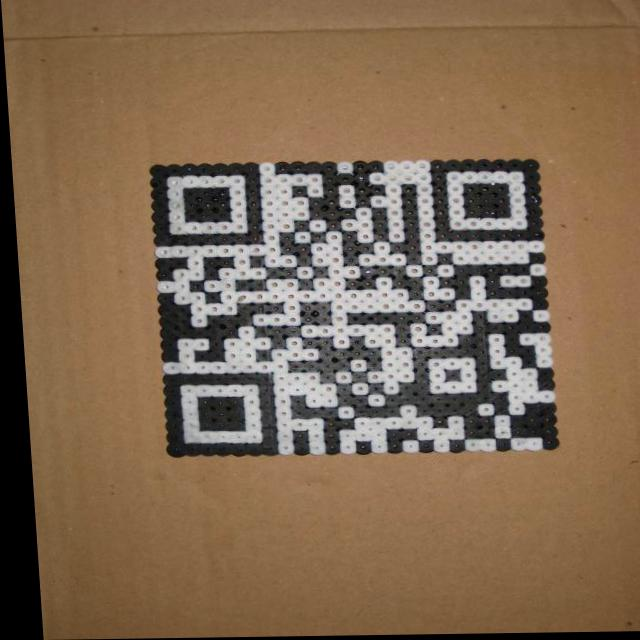qrcode: (148, 162, 552, 457)
